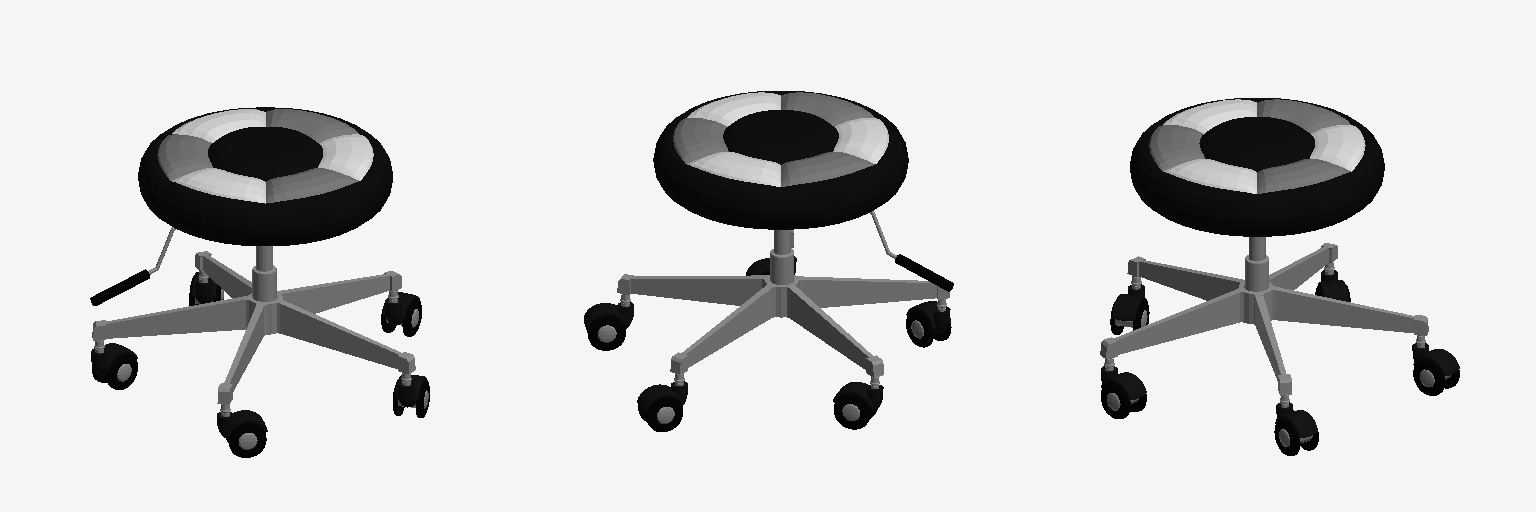
Rendered from footstool.obj.
3 renders of one model, left to right at view 1: azimuth 30°, elevation 25°; view 2: azimuth 150°, elevation 25°; view 3: azimuth 270°, elevation 25°, orthographic.
Parts seen in each view (by area): view 1: seat, stand, wheels, handle; view 2: seat, stand, wheels, handle; view 3: seat, stand, wheels.
Part boxes in pixels (bbox=[...]): seat: bbox=[138, 107, 392, 245]; stand: bbox=[92, 246, 415, 404]; wheels: bbox=[91, 271, 429, 457]; handle: bbox=[90, 227, 175, 305]; seat: bbox=[653, 91, 908, 229]; stand: bbox=[617, 230, 949, 377]; wheels: bbox=[584, 248, 951, 431]; handle: bbox=[870, 211, 953, 291]; seat: bbox=[1130, 98, 1384, 236]; stand: bbox=[1100, 237, 1428, 395]; wheels: bbox=[1101, 263, 1459, 455].
Size of the model in its own units: 31.98 by 21.2 by 28.58.